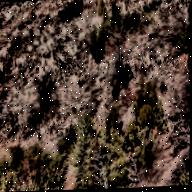boar: (108, 51, 135, 105)
